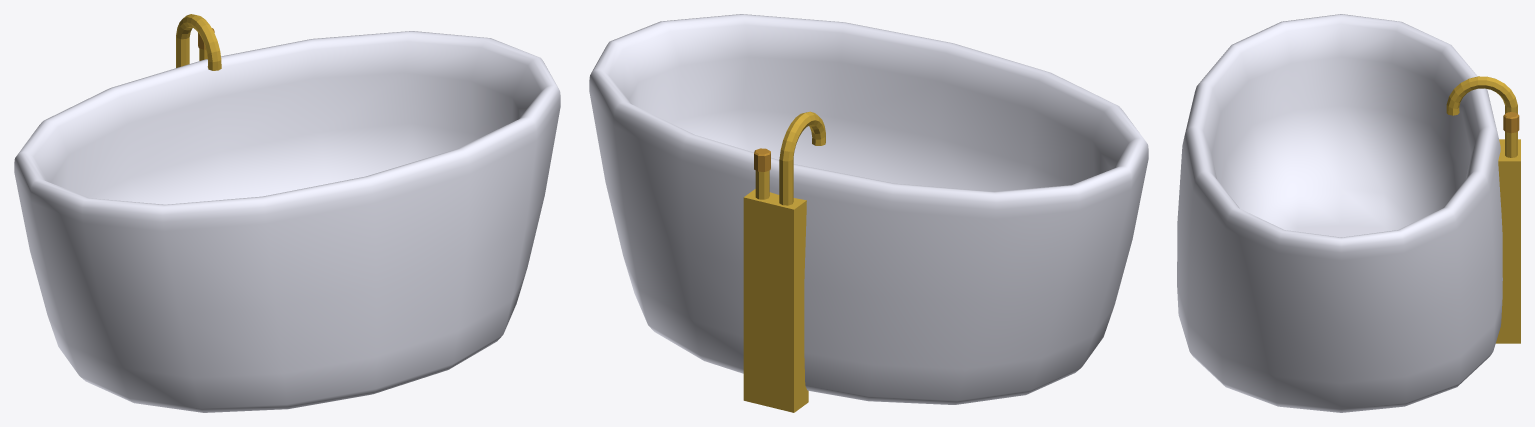
File: Prop_Bath_03.fbx
3 renders of one model, left to right at view 1: azimuth 30°, elevation 25°; view 2: azimuth 150°, elevation 25°; view 3: azimuth 270°, elevation 25°, orthographic. The views are drawn at different scales.
Visible parts, largest first — view 1: Prop_Bath_03; view 2: Prop_Bath_03; view 3: Prop_Bath_03.
Boxes of the visible parts, <box> form: Prop_Bath_03: <box>14,14,560,412</box>; Prop_Bath_03: <box>589,14,1148,412</box>; Prop_Bath_03: <box>1177,14,1520,412</box>.
Size of the model in its own units: 185 by 94.26 by 117.
